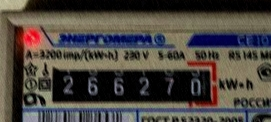0: (185, 75, 199, 95)
2: (58, 73, 71, 94), (135, 75, 148, 95)
6: (83, 74, 95, 95), (109, 75, 122, 94)
7: (161, 75, 171, 94)
screen: (37, 56, 220, 111)
